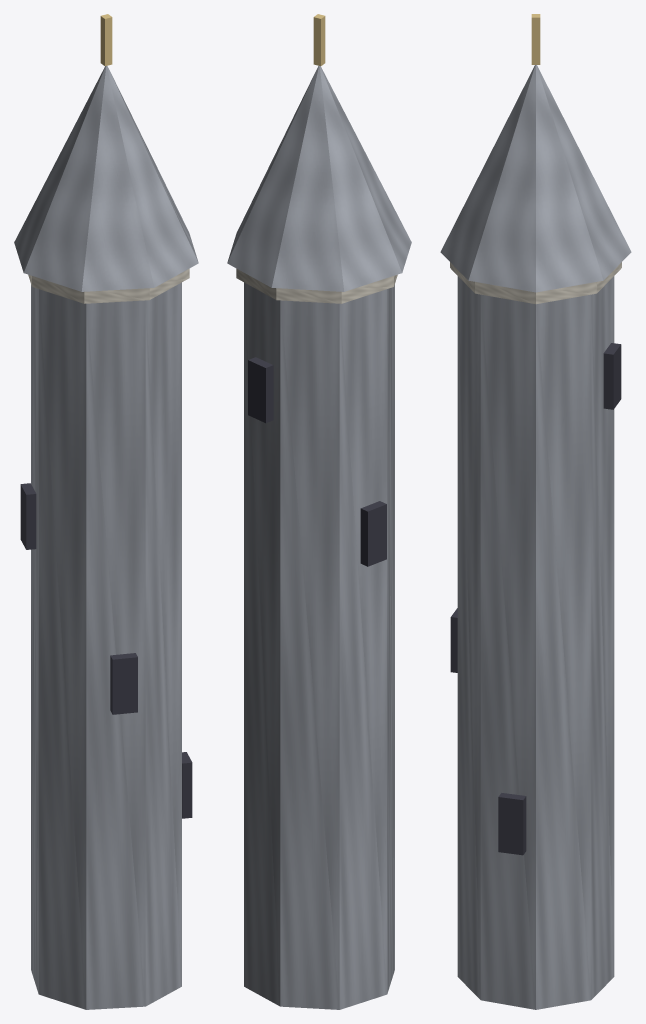
File: vampire-crypt-and-gothic-cathedral-stair-turret-1089c53e__22952.glb
3 renders of one model, left to right at view 1: azimuth 30°, elevation 25°; view 2: azimuth 150°, elevation 25°; view 3: azimuth 270°, elevation 25°, orthographic.
Visible parts, largest first — view 1: stair-turret; view 2: stair-turret; view 3: stair-turret.
Boxes of the visible parts, x1,y1,x2,y2 form: stair-turret: (14,14,198,1009); stair-turret: (227,14,411,1009); stair-turret: (440,14,631,1009).
Size of the model in its own units: 2.2 by 12.2 by 2.2.
4 materials, 2 textured.
